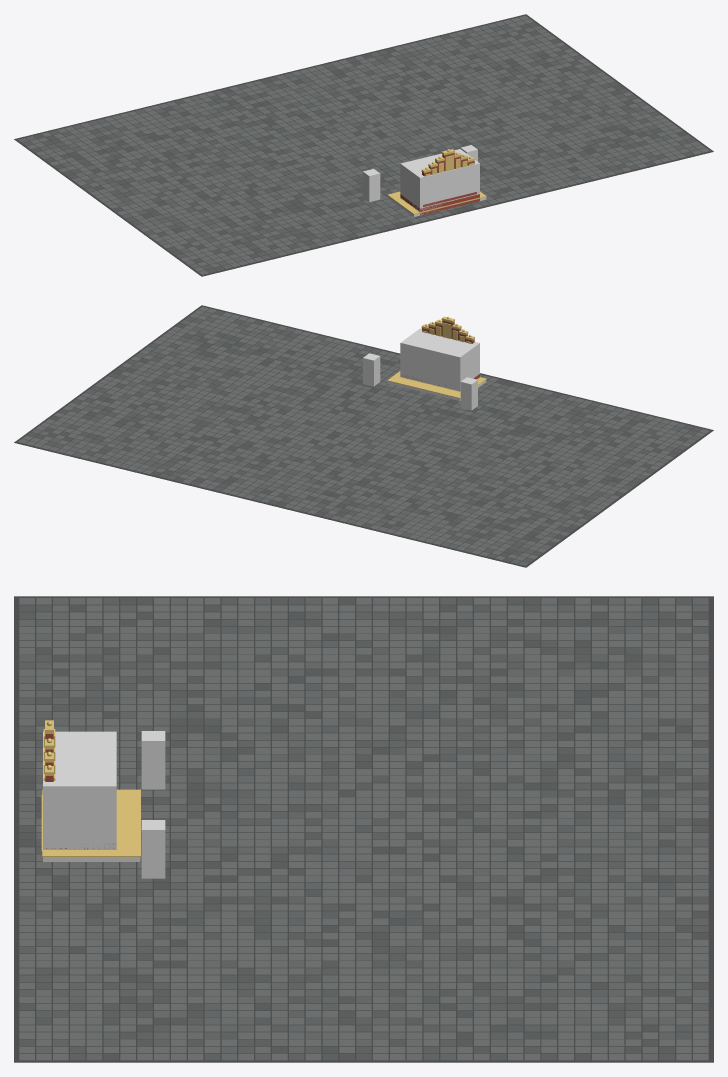
The model's file is cining.glb.
3 renders of one model, top to bottom at view 1: azimuth 30°, elevation 25°; view 2: azimuth 150°, elevation 25°; view 3: azimuth 270°, elevation 25°, orthographic. The views are drawn at different scales.
Parts seen in each view (by area): view 1: floor_tiles, floor_base, COL_dais, merged_gold_lacquer, merged_red_lacquer, COL_xt_-1; view 2: floor_tiles, floor_base, COL_dais, merged_gold_lacquer, COL_xt_1, COL_xt_-1; view 3: floor_tiles, floor_base, COL_dais, merged_gold_lacquer, COL_xt_1, COL_xt_-1.
Part boxes in pixels (bbox=[...]): floor_tiles: bbox=[18, 15, 709, 274]; floor_base: bbox=[14, 14, 713, 276]; COL_dais: bbox=[400, 149, 479, 215]; merged_gold_lacquer: bbox=[387, 149, 486, 214]; merged_red_lacquer: bbox=[400, 153, 479, 215]; COL_xt_-1: bbox=[363, 169, 380, 202]; floor_tiles: bbox=[18, 306, 709, 565]; floor_base: bbox=[14, 305, 713, 567]; COL_dais: bbox=[400, 328, 479, 391]; merged_gold_lacquer: bbox=[387, 316, 486, 398]; COL_xt_1: bbox=[363, 353, 380, 386]; COL_xt_-1: bbox=[460, 377, 477, 410]; floor_tiles: bbox=[19, 598, 708, 1060]; floor_base: bbox=[14, 596, 713, 1062]; COL_dais: bbox=[43, 731, 116, 849]; merged_gold_lacquer: bbox=[41, 720, 140, 856]; COL_xt_1: bbox=[141, 820, 165, 878]; COL_xt_-1: bbox=[141, 731, 165, 789].
Size of the model in its own units: 41.9 by 4.58 by 26.6.
